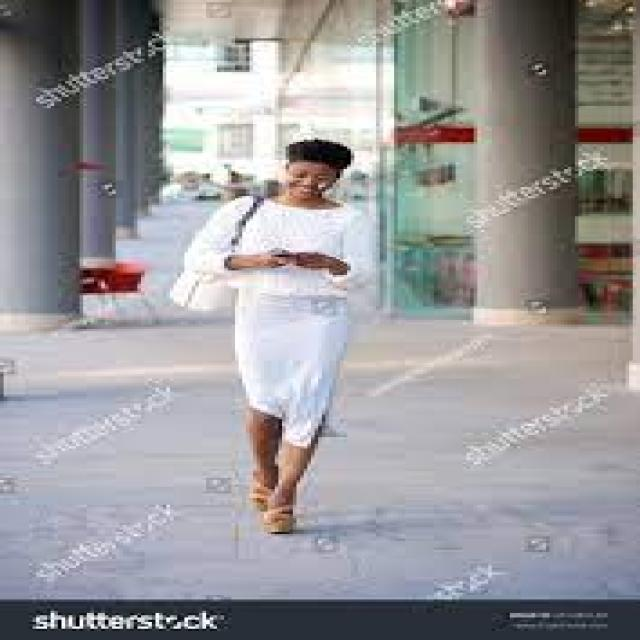Person: (169, 140, 372, 532)
